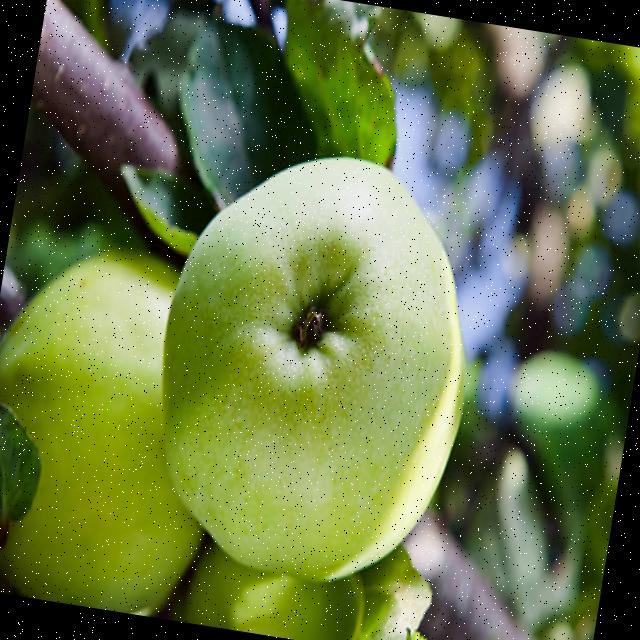Unripe: (132, 130, 504, 605)
